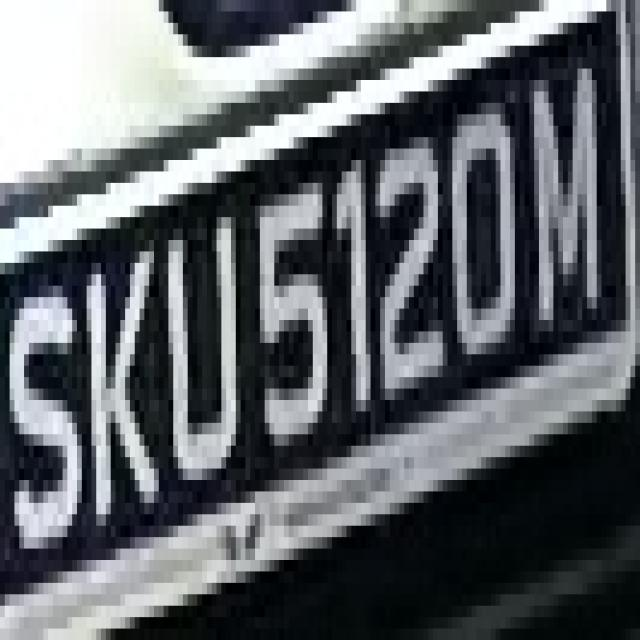0: (442, 92, 524, 377)
1: (318, 160, 390, 423)
2: (370, 126, 438, 411)
5: (245, 172, 328, 457)
K: (91, 206, 154, 560)
M: (525, 23, 611, 331)
S: (9, 263, 82, 583)
U: (159, 206, 250, 480)
